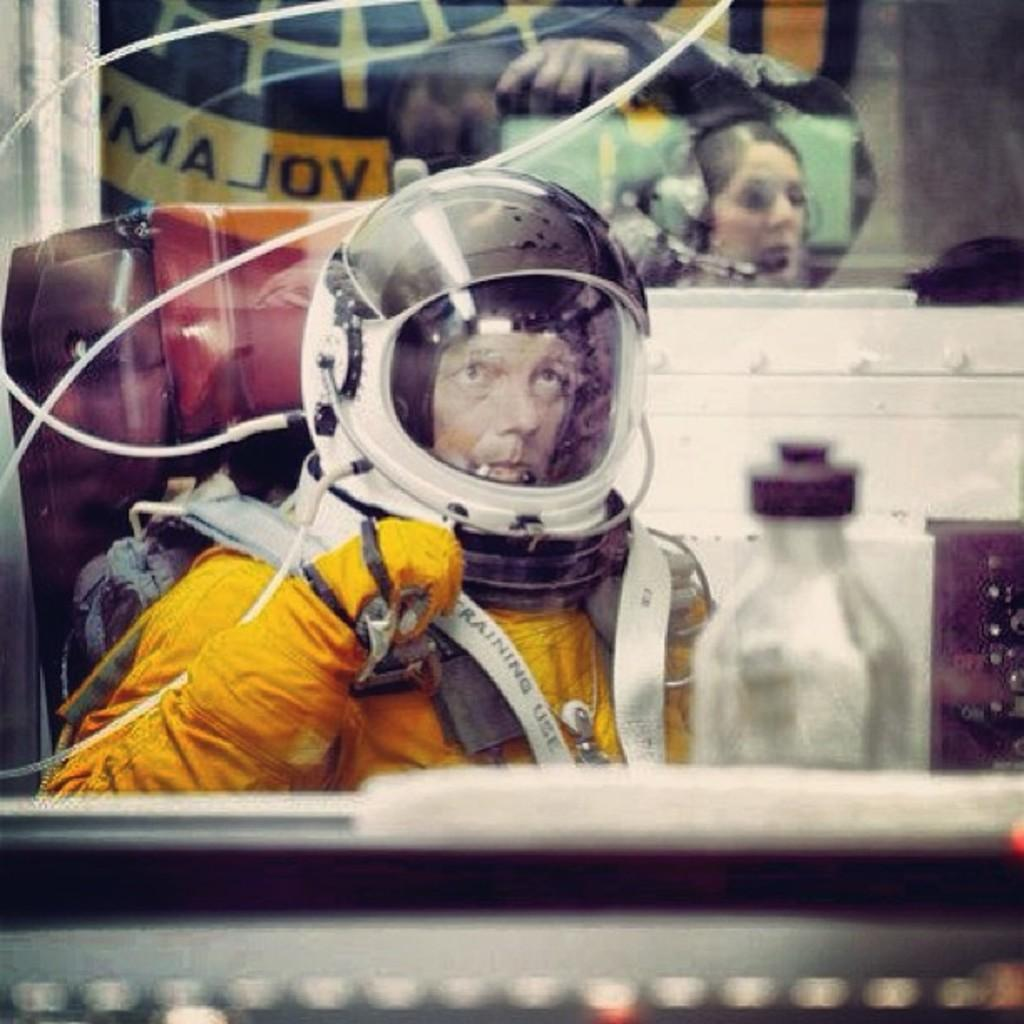helmet: (300, 166, 651, 539)
